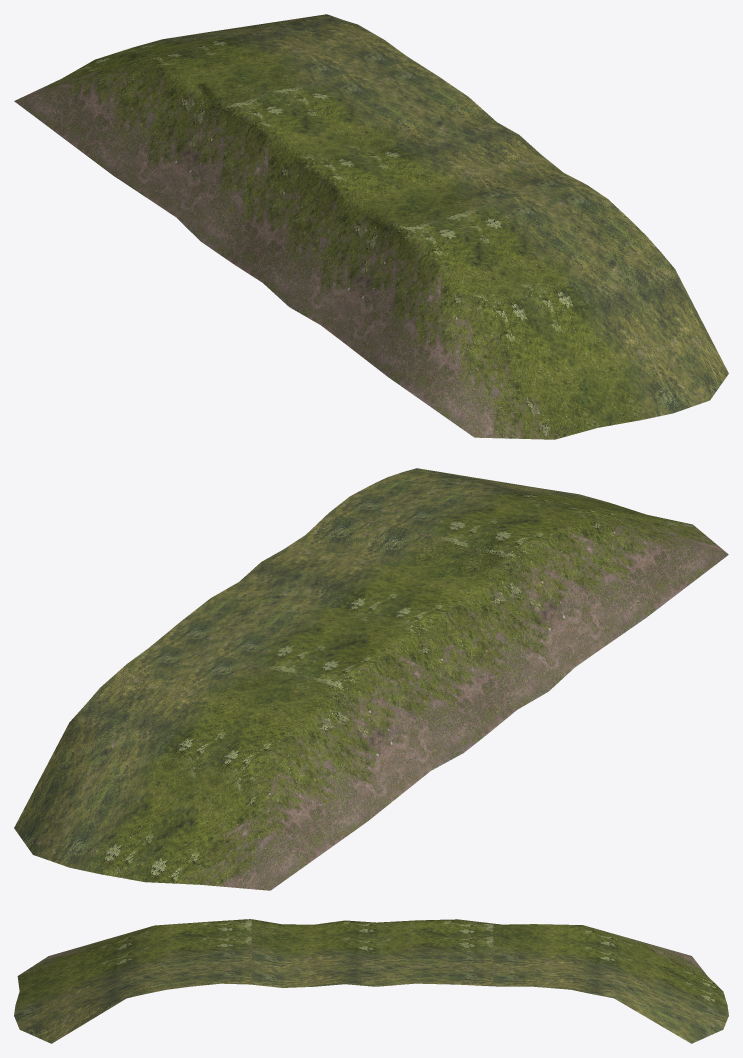
The model's file is steepR.gltf.
3 renders of one model, top to bottom at view 1: azimuth 30°, elevation 25°; view 2: azimuth 150°, elevation 25°; view 3: azimuth 270°, elevation 25°, orthographic. The views are drawn at different scales.
Bounding box in the file's own units: 66 × 22.33 × 224.
1 material, 1 textured.
